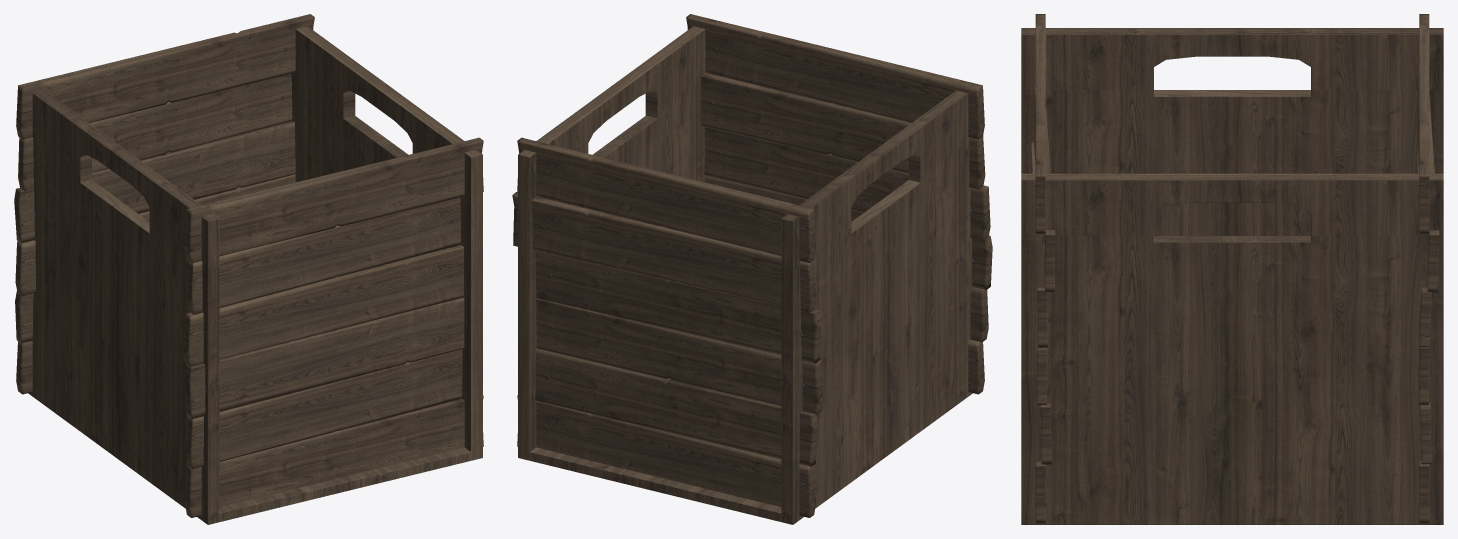
The model's file is WoodenCrate.glb.
3 views of the same model, side by side, from view 1: azimuth 30°, elevation 25°; view 2: azimuth 150°, elevation 25°; view 3: azimuth 270°, elevation 25° (orthographic). The views are drawn at different scales.
Visible parts, largest first — view 1: Cube; view 2: Cube; view 3: Cube.
Boxes of the visible parts, x1=… form: Cube: x1=14, y1=14, x2=483, y2=524; Cube: x1=512, y1=14, x2=992, y2=524; Cube: x1=1021, y1=14, x2=1443, y2=524.
Size of what is drawn, in the model's own units: 2.05 by 2.03 by 2.2.
Materials: 2 (1 with a texture image).
